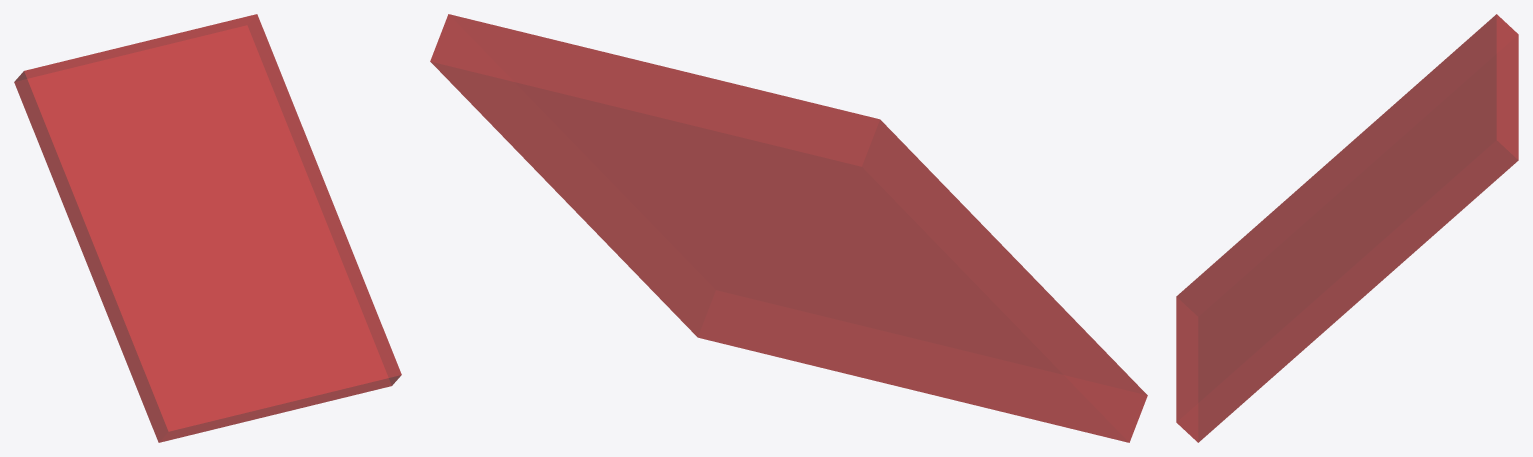
File: SM_Bld_House_Stairs_04_Collision.fbx
The picture shows the model from 3 angles, left to right: view 1: azimuth 30°, elevation 25°; view 2: azimuth 150°, elevation 25°; view 3: azimuth 270°, elevation 25°; orthographic projection. The views are drawn at different scales.
Visible parts, largest first — view 1: SM_Bld_House_Stairs_04_Collision; view 2: SM_Bld_House_Stairs_04_Collision; view 3: SM_Bld_House_Stairs_04_Collision.
Part boxes in pixels (bbox=[...]): SM_Bld_House_Stairs_04_Collision: bbox=[14, 14, 401, 442]; SM_Bld_House_Stairs_04_Collision: bbox=[430, 14, 1147, 442]; SM_Bld_House_Stairs_04_Collision: bbox=[1176, 14, 1518, 442].
Bounding box in the file's own units: 245 × 275 × 281.
